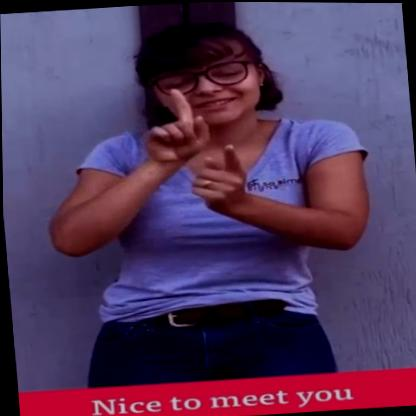NiceToMeetYou: (29, 6, 378, 389)
